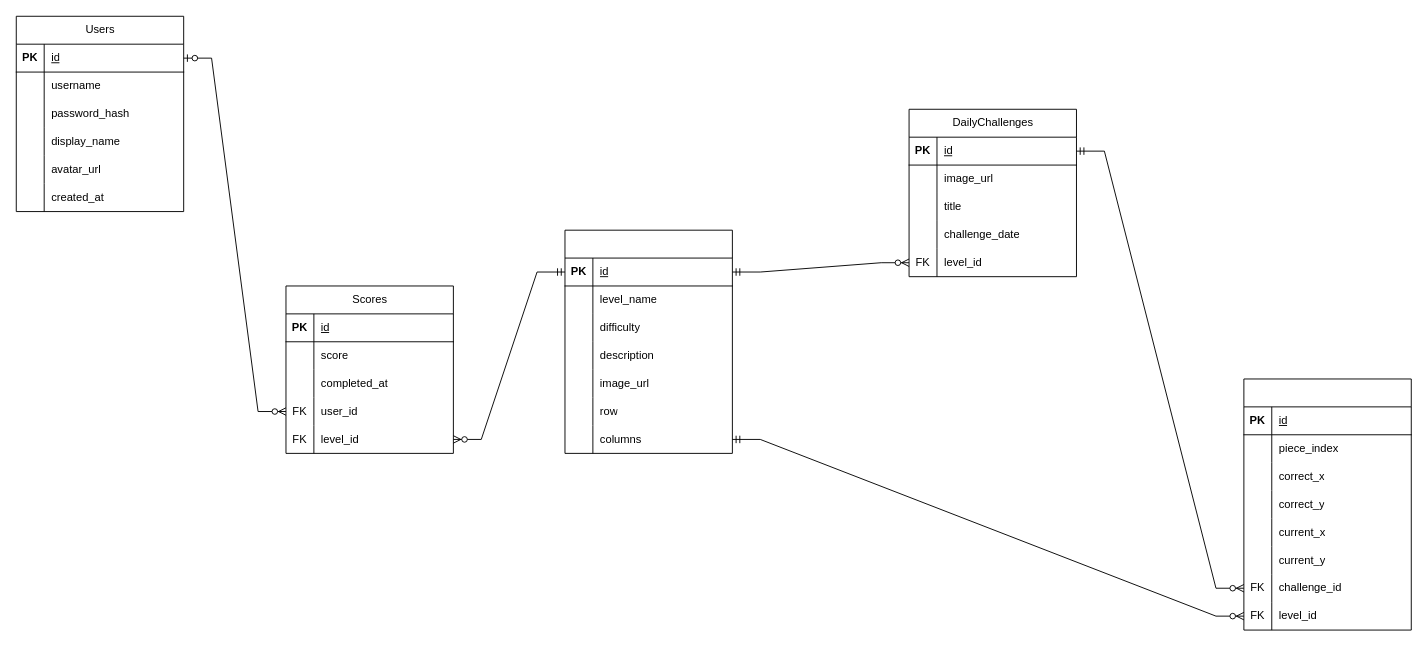
This 1428x646 diagram has some shape labels left out. The box of each missing label's shape, as (x1, y1, x2, y2) in pixels:
ImagesPieces: (1243, 378, 1411, 630)
Levels: (564, 229, 732, 453)
